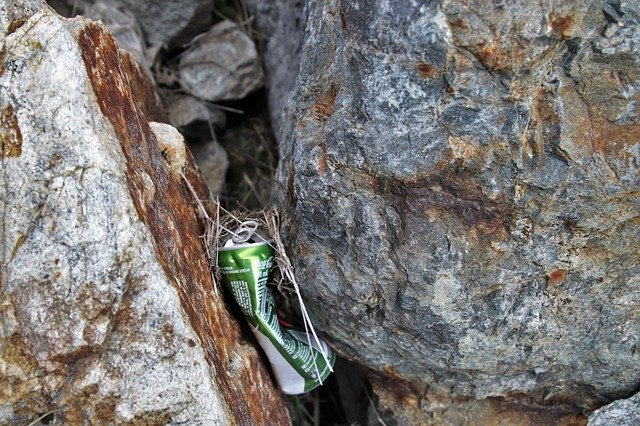can: (204, 208, 342, 400)
